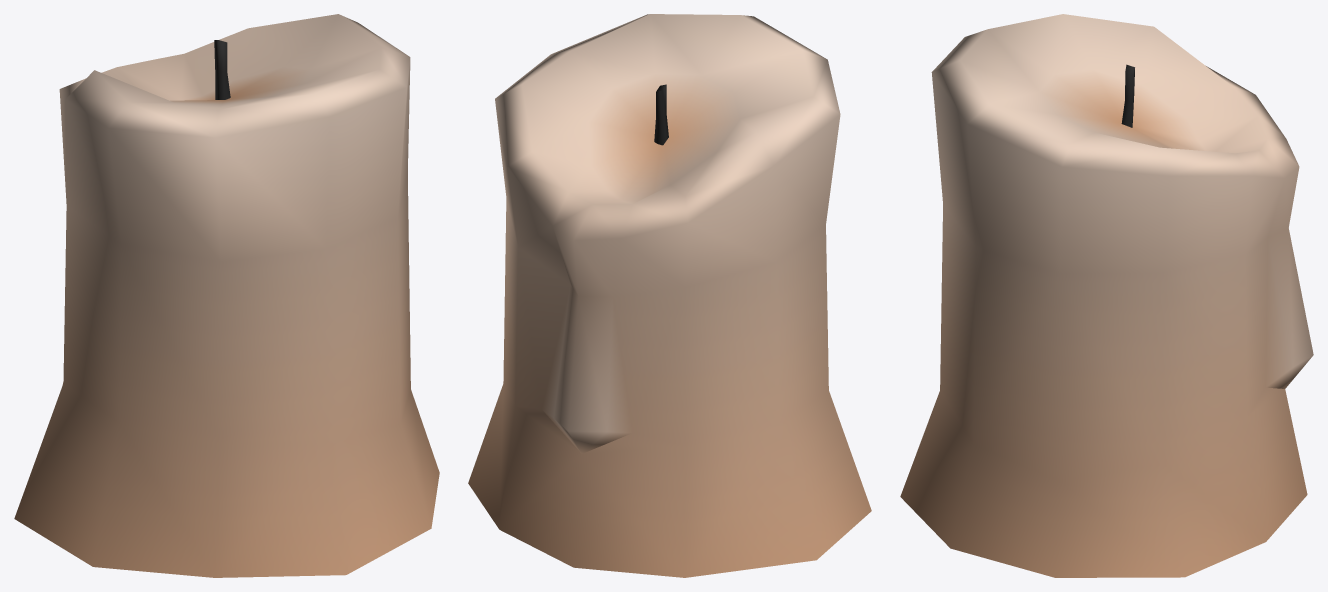
File: CandleBlock2.fbx
The picture shows the model from 3 angles, left to right: view 1: azimuth 30°, elevation 25°; view 2: azimuth 150°, elevation 25°; view 3: azimuth 270°, elevation 25°; orthographic projection. The views are drawn at different scales.
Visible parts, largest first — view 1: CandleBlock2; view 2: CandleBlock2; view 3: CandleBlock2.
Part boxes in pixels (left/top/right/bottom): CandleBlock2: left=14, top=14, right=439, bottom=577; CandleBlock2: left=468, top=14, right=871, bottom=577; CandleBlock2: left=900, top=14, right=1313, bottom=577.
Size of the model in its own units: 9.76 by 11.67 by 10.02.
